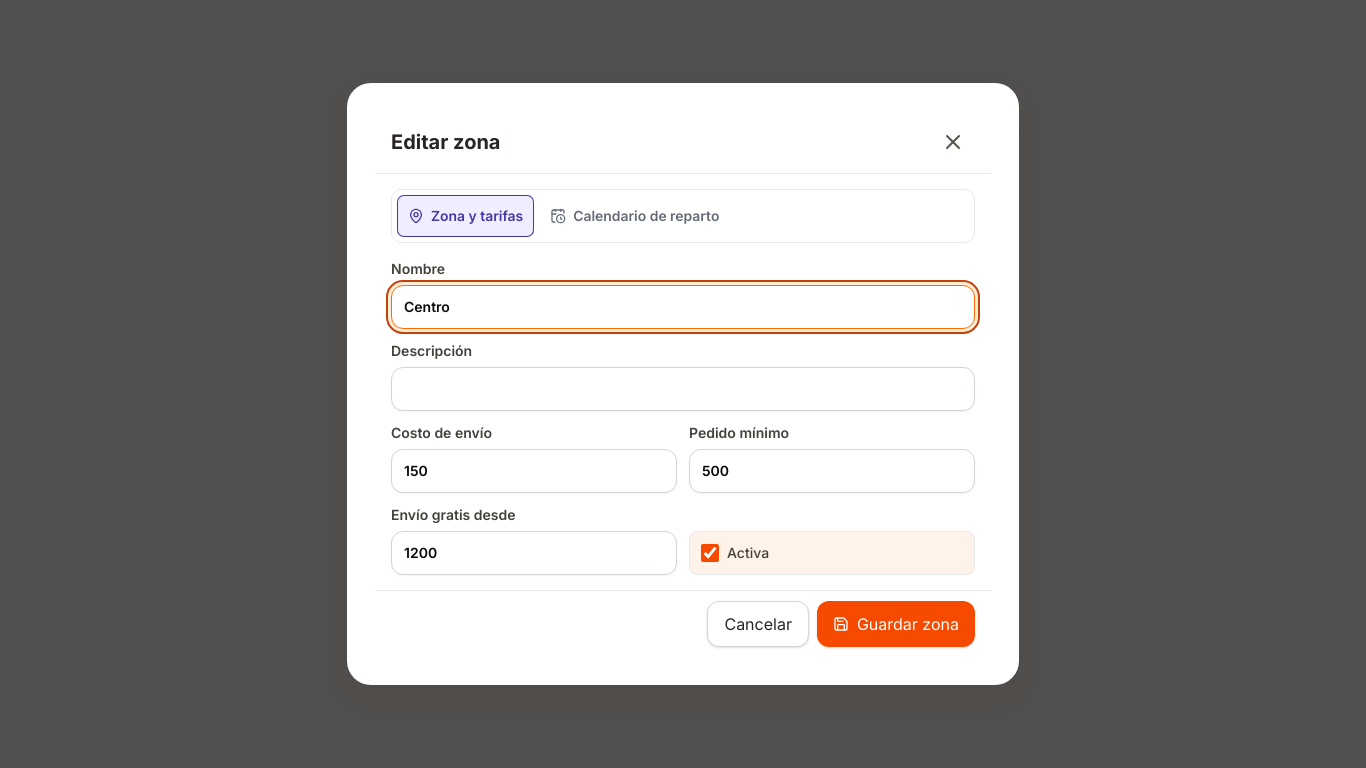
Test case: delivery zone setup › retains entered data after a save failure
Click the button "Guardar zona".
click(896, 624)  # box left=817, top=601, right=975, bottom=647
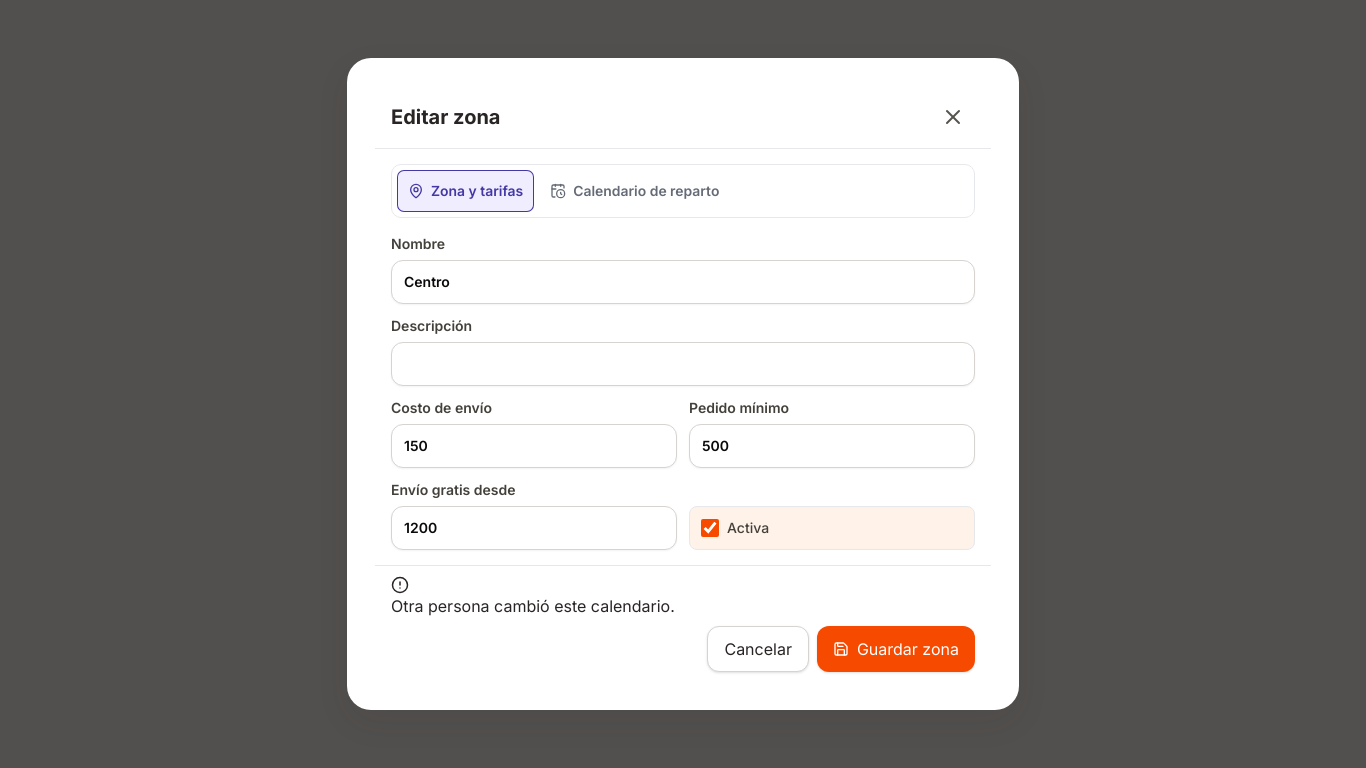
Check: the field labelled "Nombre" holds "Centro", box left=391, top=260, right=975, bottom=304
Check: the message shows "Otra persona cambió", box left=391, top=596, right=675, bottom=616
